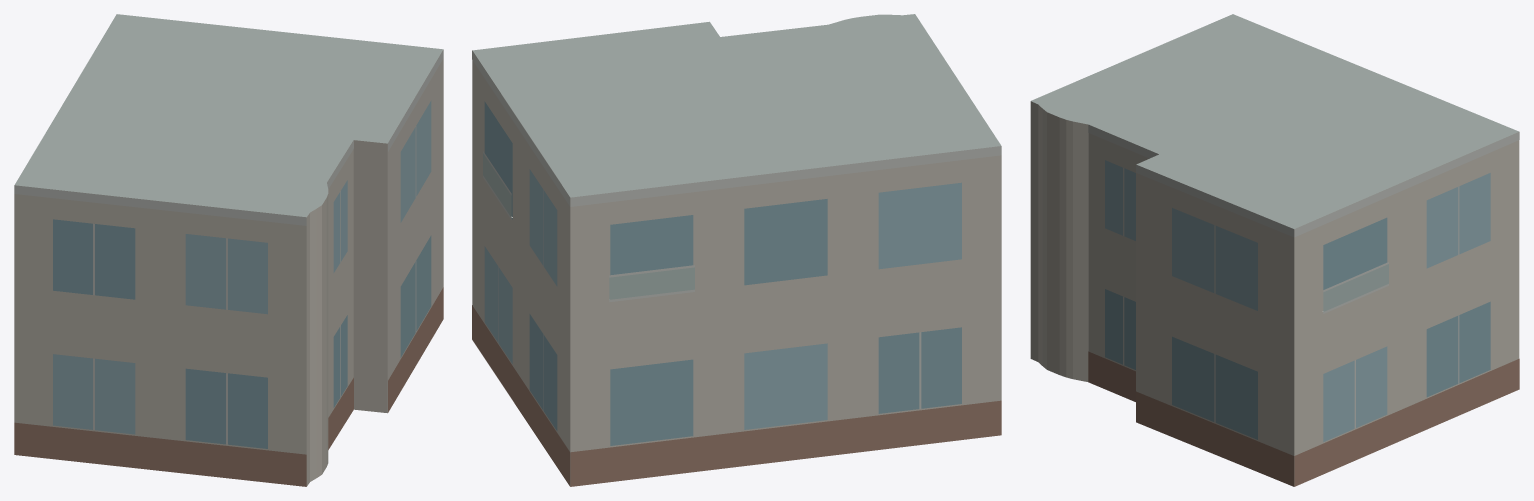
The model's file is survey-upis-32544093.glb.
3 views of the same model, side by side, from view 1: azimuth 30°, elevation 25°; view 2: azimuth 150°, elevation 25°; view 3: azimuth 270°, elevation 25° (orthographic). The views are drawn at different scales.
Parts seen in each view (by area): view 1: survey-upis-32544093.tmp; view 2: survey-upis-32544093.tmp; view 3: survey-upis-32544093.tmp.
Part boxes in pixels (x1=…): survey-upis-32544093.tmp: x1=14, y1=14, x2=443, y2=486; survey-upis-32544093.tmp: x1=472, y1=14, x2=1001, y2=486; survey-upis-32544093.tmp: x1=1030, y1=14, x2=1519, y2=486.
Bounding box in the file's own units: 13.53 × 7.55 × 12.99.
